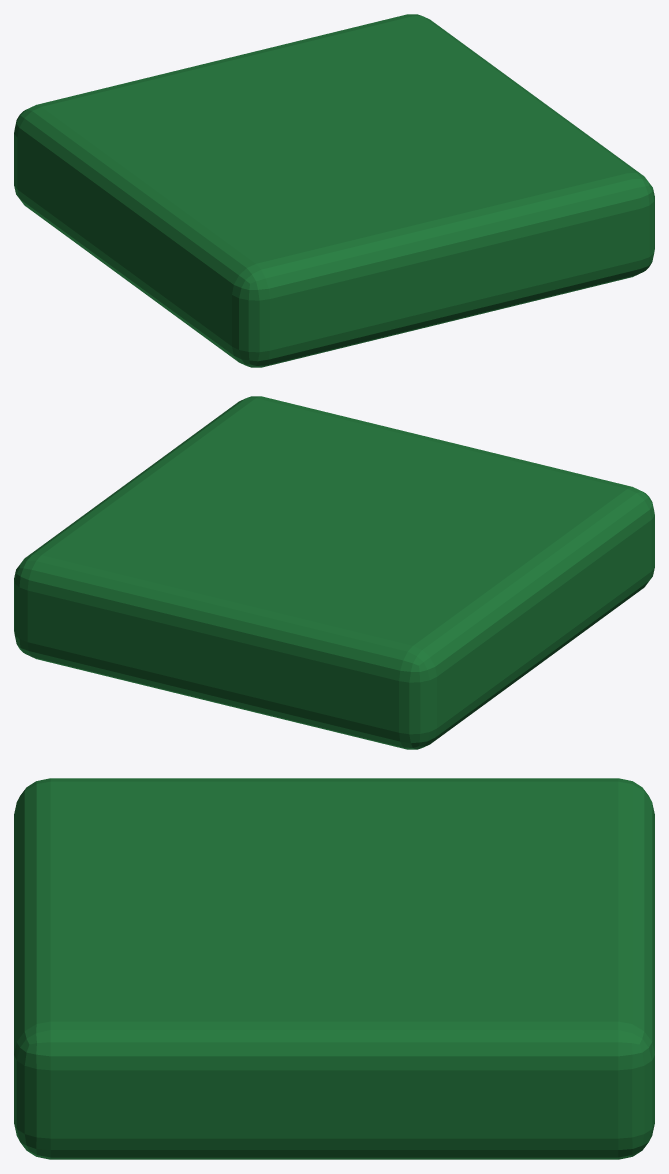
Rendered from button.fbx.
3 renders of one model, top to bottom at view 1: azimuth 30°, elevation 25°; view 2: azimuth 150°, elevation 25°; view 3: azimuth 270°, elevation 25°, orthographic. The views are drawn at different scales.
Parts seen in each view (by area): view 1: Cube.002; view 2: Cube.002; view 3: Cube.002.
Part boxes in pixels (<box>): Cube.002: <box>14,14,654,367</box>; Cube.002: <box>14,396,654,749</box>; Cube.002: <box>14,778,654,1159</box>.
Size of the model in its own units: 210 by 48.68 by 210.
